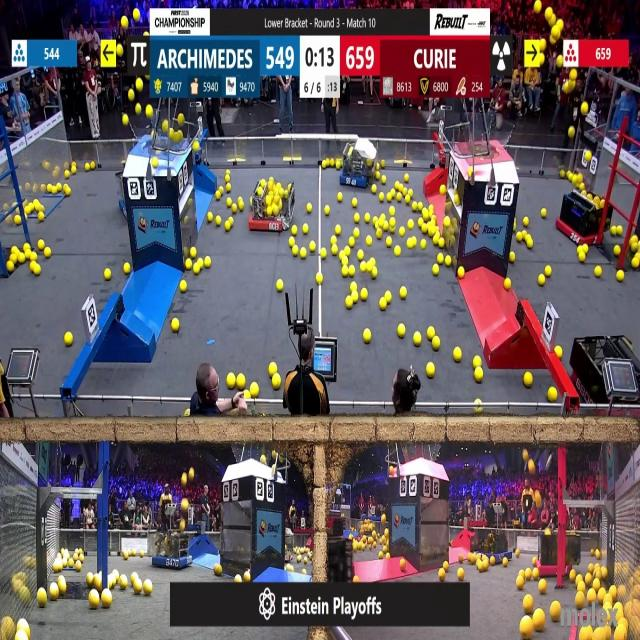ball_airborne: (533, 492, 541, 508), (552, 26, 560, 39), (120, 15, 128, 27), (534, 1, 542, 13), (544, 7, 552, 19), (136, 78, 143, 91), (528, 460, 535, 472), (568, 128, 575, 140), (582, 103, 589, 115), (181, 474, 187, 487), (135, 104, 142, 115), (181, 498, 188, 509), (121, 114, 128, 125), (146, 105, 152, 117), (564, 80, 570, 92), (523, 450, 529, 462), (116, 44, 122, 56), (569, 79, 576, 89), (129, 91, 135, 102), (134, 9, 140, 20), (570, 70, 576, 80), (178, 113, 184, 123), (586, 150, 592, 160), (151, 159, 157, 169), (164, 119, 170, 129), (551, 15, 557, 25), (176, 131, 182, 140), (192, 142, 198, 151), (262, 454, 268, 463), (180, 521, 185, 531), (544, 528, 549, 536), (170, 130, 174, 138)
ball_ground: (532, 612, 544, 632), (521, 619, 533, 637), (551, 602, 562, 620), (90, 592, 101, 609), (34, 588, 44, 606), (101, 592, 112, 608), (524, 595, 532, 613), (630, 236, 639, 252), (143, 582, 153, 596), (575, 594, 584, 609), (59, 580, 68, 595), (272, 376, 281, 390), (524, 374, 533, 388), (134, 582, 143, 596), (237, 375, 245, 390), (250, 383, 258, 398), (65, 334, 74, 347), (538, 580, 546, 594), (454, 348, 462, 362), (426, 362, 434, 376), (431, 338, 439, 352), (528, 568, 538, 579), (578, 629, 588, 640), (549, 388, 558, 400), (474, 367, 482, 380), (172, 319, 180, 332), (346, 295, 354, 308), (588, 591, 596, 604), (472, 356, 481, 367), (363, 328, 370, 342), (227, 375, 234, 389), (414, 334, 422, 346), (380, 300, 388, 312), (276, 280, 284, 292), (517, 576, 525, 588), (119, 576, 127, 588), (427, 326, 434, 339), (556, 346, 563, 359), (214, 564, 222, 575), (397, 324, 404, 336), (399, 287, 406, 299), (458, 268, 465, 280), (595, 267, 602, 279), (180, 280, 187, 292), (360, 288, 367, 300), (34, 265, 41, 277), (270, 362, 277, 374), (88, 572, 95, 584), (64, 184, 71, 196), (205, 256, 212, 268), (349, 266, 356, 278), (618, 272, 626, 282), (445, 256, 453, 266), (482, 561, 490, 571), (316, 274, 323, 285), (632, 257, 639, 268), (526, 238, 533, 249), (385, 291, 392, 302), (123, 264, 129, 276), (432, 265, 438, 277), (370, 214, 378, 223), (108, 578, 114, 590), (445, 217, 452, 227), (439, 569, 446, 579), (244, 572, 251, 582), (17, 253, 24, 263), (192, 266, 199, 276), (507, 252, 514, 262), (348, 238, 355, 248), (350, 282, 357, 292), (342, 268, 349, 278), (389, 217, 396, 227), (539, 208, 546, 218), (244, 389, 251, 399), (401, 184, 408, 194), (458, 568, 464, 579), (44, 247, 50, 258), (615, 246, 621, 257), (544, 267, 550, 278), (7, 263, 13, 274), (538, 275, 544, 286), (570, 570, 576, 581), (291, 247, 298, 256), (236, 574, 243, 583), (197, 259, 204, 268), (467, 553, 474, 562), (105, 270, 111, 280), (578, 252, 584, 262), (291, 224, 297, 234), (394, 246, 400, 256), (304, 224, 310, 234), (189, 248, 195, 258), (360, 263, 366, 273), (444, 561, 450, 571), (299, 248, 305, 258), (409, 219, 415, 229), (310, 242, 316, 252), (38, 240, 44, 250), (408, 239, 414, 249), (184, 261, 190, 271), (432, 237, 438, 247), (439, 254, 445, 264), (618, 225, 624, 235), (75, 562, 81, 572), (352, 292, 358, 302), (35, 212, 41, 222), (25, 243, 31, 253), (427, 224, 433, 234), (418, 218, 424, 228), (610, 225, 616, 235), (363, 214, 370, 222), (395, 192, 402, 200), (330, 237, 337, 245), (380, 214, 387, 222), (31, 252, 38, 260), (342, 256, 349, 264), (504, 279, 509, 290), (337, 224, 342, 235), (321, 248, 326, 259), (399, 560, 404, 571), (331, 246, 337, 255), (224, 221, 230, 230), (365, 237, 371, 246), (288, 238, 294, 247), (377, 231, 383, 240), (517, 233, 523, 242), (215, 216, 221, 225), (440, 239, 446, 248), (354, 230, 360, 239), (233, 204, 239, 213), (519, 568, 525, 577), (490, 557, 496, 566), (522, 232, 528, 241), (371, 270, 376, 280), (442, 184, 447, 194), (358, 250, 363, 260), (418, 202, 423, 212), (8, 253, 15, 260), (338, 192, 344, 200), (354, 214, 360, 222), (380, 192, 386, 200), (344, 248, 350, 256), (383, 222, 389, 230), (394, 181, 400, 189), (387, 192, 393, 200), (408, 188, 414, 196), (389, 208, 395, 216), (11, 246, 17, 254), (422, 224, 428, 232), (46, 184, 52, 192), (366, 266, 372, 274), (421, 240, 426, 249), (387, 238, 392, 247), (524, 217, 529, 226), (352, 199, 357, 208), (324, 206, 329, 215), (403, 174, 408, 183), (308, 204, 313, 213), (208, 213, 213, 222), (226, 199, 231, 208), (502, 558, 507, 567), (413, 203, 418, 212), (399, 226, 404, 235), (239, 202, 244, 211), (459, 554, 464, 563), (369, 257, 374, 266), (381, 174, 386, 183), (532, 557, 537, 566), (424, 209, 429, 218), (353, 575, 359, 582), (583, 245, 589, 252), (371, 184, 376, 192), (84, 163, 89, 171), (215, 190, 220, 198), (65, 171, 70, 179), (92, 162, 97, 170), (224, 175, 229, 183), (14, 216, 19, 224), (406, 197, 411, 205), (322, 162, 327, 170), (560, 171, 565, 179), (58, 183, 63, 191), (376, 172, 381, 180), (184, 411, 189, 418), (225, 184, 230, 191), (140, 551, 145, 558), (218, 185, 223, 192), (288, 565, 293, 572), (517, 550, 521, 558), (380, 553, 384, 561), (384, 544, 388, 552), (123, 554, 128, 560), (474, 398, 480, 403), (386, 554, 390, 561), (72, 168, 76, 175), (377, 163, 381, 170)
goal: (461, 118, 517, 158), (129, 118, 187, 152)
robot_blue: (152, 528, 197, 571), (339, 139, 376, 188), (473, 528, 511, 562)
robot_red: (560, 182, 606, 245), (250, 178, 295, 234), (538, 530, 580, 580)
